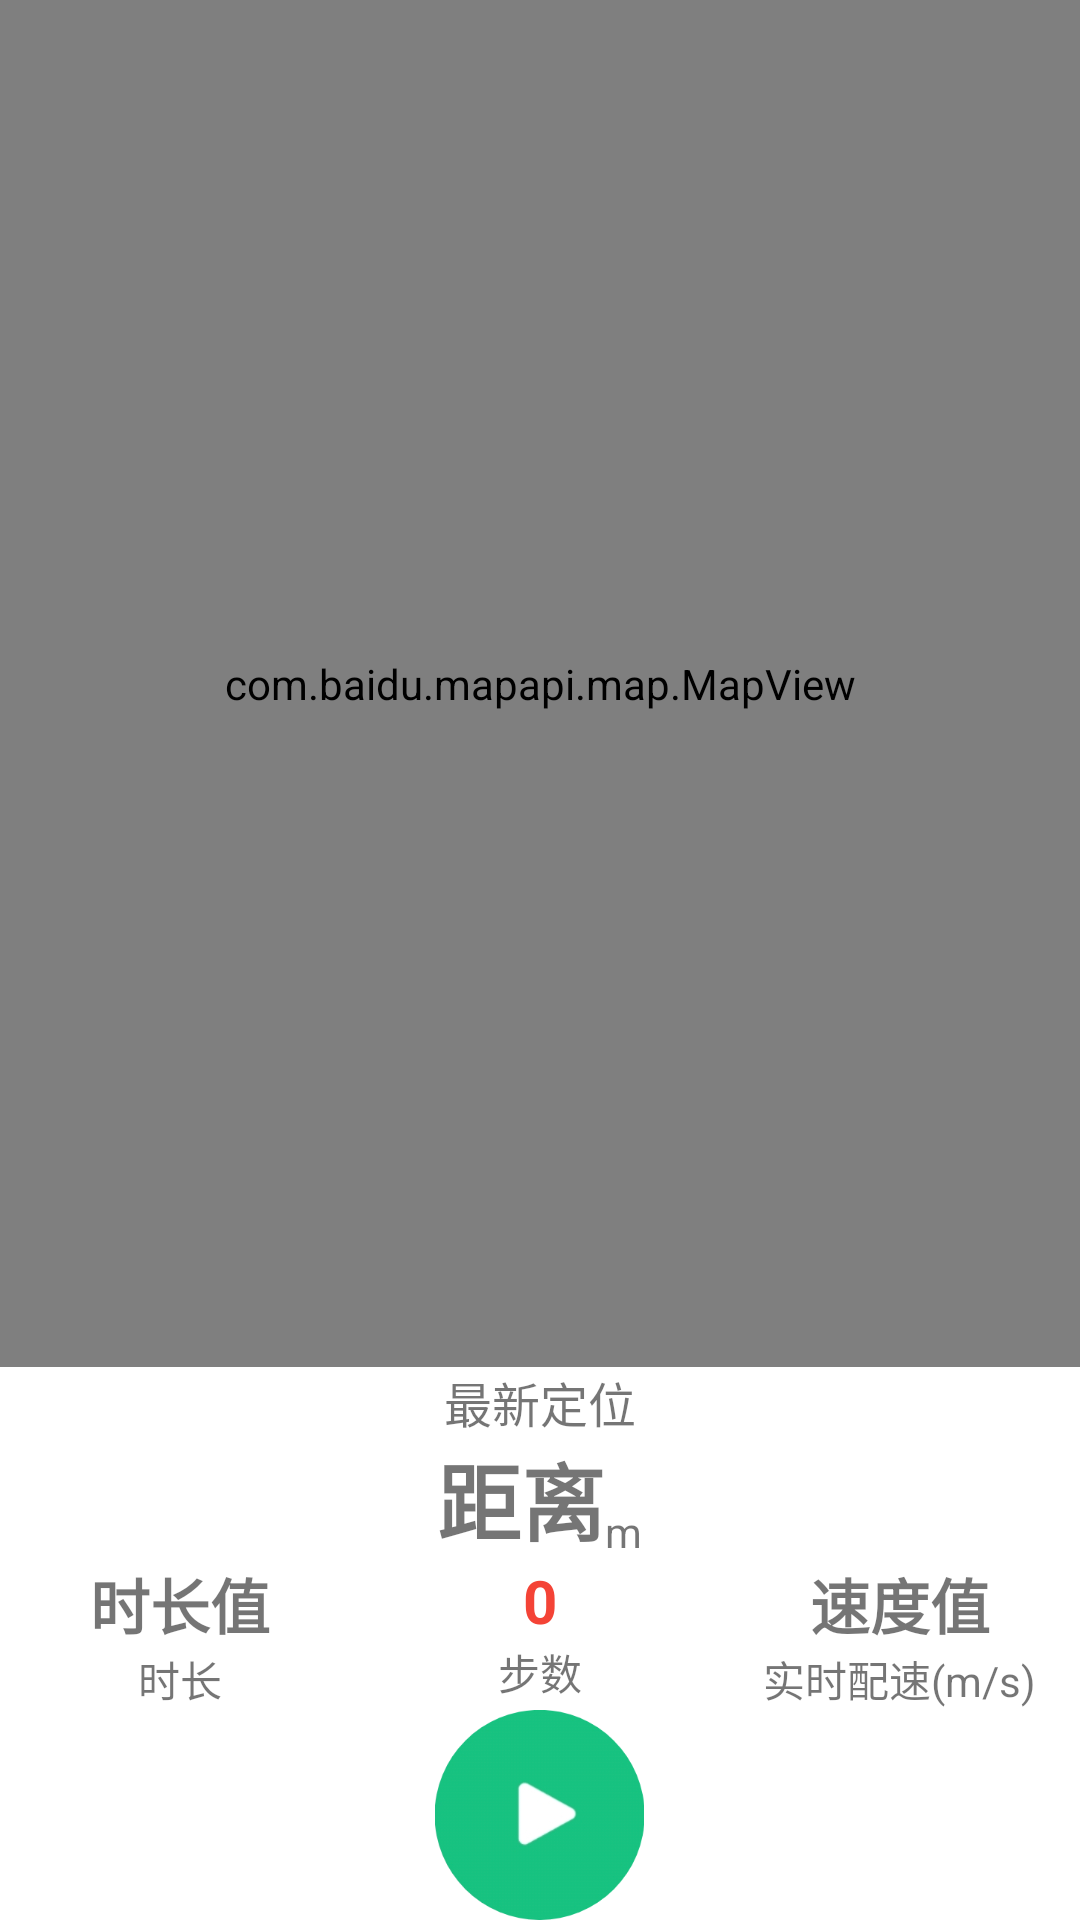

Icon click points for this 1080 x 1920 phone screenshot, format [x,y]:
启停按钮: [539,1815]
